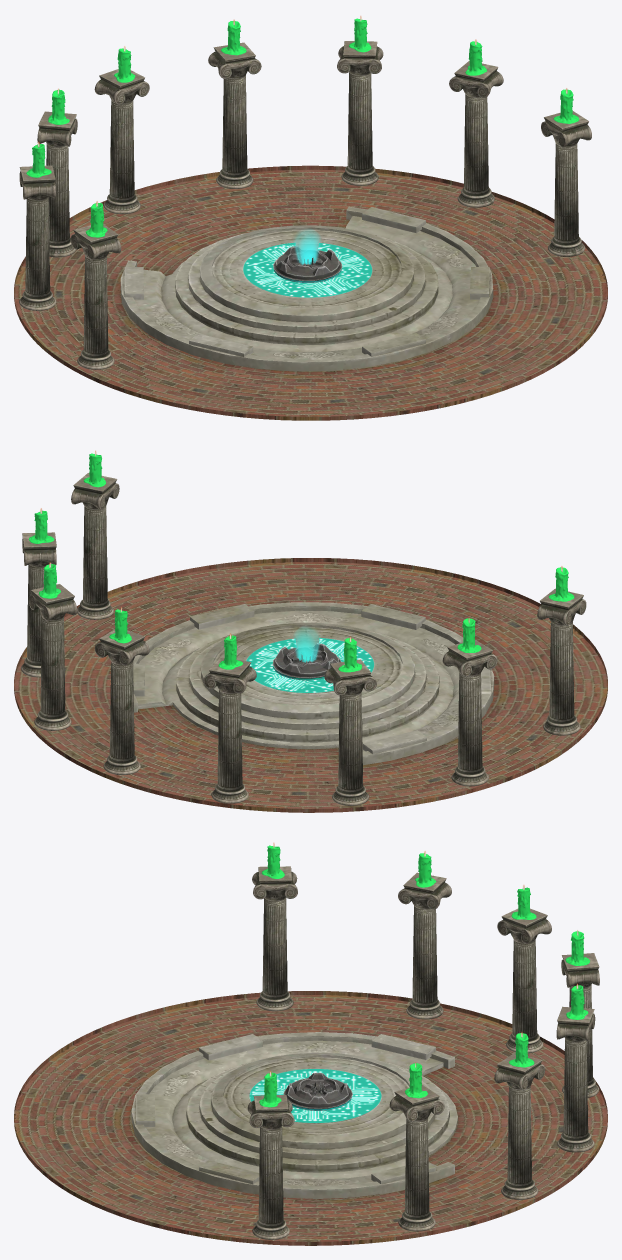
Rendered from altar80.glb.
The picture shows the model from 3 angles, top to bottom: view 1: azimuth 30°, elevation 25°; view 2: azimuth 150°, elevation 25°; view 3: azimuth 270°, elevation 25°; orthographic projection.
Parts seen in each view (by area): view 1: Floor, Floor2.002, Ionic_Column, Ionic_Column__0.005, Ionic_Column__0.004, Ionic_Column__0.006, Ionic_Column__0.001, Ionic_Column__0.007, Ionic_Column__0.002, goldCircuit, Ionic_Column__0.003, Object_2.001 (+1 smaller); view 2: Floor, Floor2.002, Ionic_Column__0.004, Ionic_Column__0.003, Ionic_Column__0.005, Ionic_Column__0.002, Ionic_Column, Ionic_Column__0.001, Ionic_Column__0.007, goldCircuit, Ionic_Column__0.006, Object_2.001 (+7 smaller); view 3: Floor, Floor2.002, Ionic_Column__0.001, Ionic_Column__0.002, Ionic_Column__0.007, Ionic_Column__0.006, Ionic_Column, Ionic_Column__0.005, Ionic_Column__0.003, goldCircuit, Object_2.001, Ionic_Column__0.004.
Part boxes in pixels (x1,y1,x2,y2): Floor: (14, 165, 607, 420); Floor2.002: (120, 206, 493, 371); Ionic_Column: (337, 41, 383, 185); Ionic_Column__0.005: (208, 42, 261, 188); Ionic_Column__0.004: (94, 69, 149, 214); Ionic_Column__0.006: (449, 60, 503, 207); Ionic_Column__0.001: (70, 224, 121, 369); Ionic_Column__0.007: (541, 111, 591, 256); Ionic_Column__0.002: (19, 165, 56, 310); goldCircuit: (243, 242, 372, 297); Ionic_Column__0.003: (37, 111, 77, 257); Object_2.001: (273, 246, 342, 282); Floor: (14, 558, 607, 812); Floor2.002: (133, 602, 494, 765); Ionic_Column__0.004: (203, 657, 256, 803); Ionic_Column__0.003: (324, 659, 376, 805); Ionic_Column__0.005: (94, 630, 149, 774); Ionic_Column__0.002: (442, 640, 497, 786); Ionic_Column: (28, 584, 77, 730); Ionic_Column__0.001: (537, 588, 586, 735); Ionic_Column__0.007: (71, 473, 119, 619); goldCircuit: (246, 638, 374, 692); Ionic_Column__0.006: (20, 532, 56, 677); Object_2.001: (272, 643, 341, 680); Floor: (14, 991, 607, 1245); Floor2.002: (131, 1032, 457, 1198); Ionic_Column__0.001: (252, 866, 297, 1011); Ionic_Column__0.002: (398, 872, 451, 1019); Ionic_Column__0.007: (247, 1095, 294, 1239); Ionic_Column__0.006: (389, 1084, 444, 1231); Ionic_Column: (494, 1052, 545, 1199); Ionic_Column__0.005: (556, 1006, 595, 1152); Ionic_Column__0.003: (497, 908, 551, 1053); goldCircuit: (249, 1069, 381, 1123); Object_2.001: (283, 1072, 352, 1110); Ionic_Column__0.004: (561, 953, 599, 1097).
Size of the model in its own units: 60 by 19.73 by 60.
Materials: 9 (7 with a texture image).
